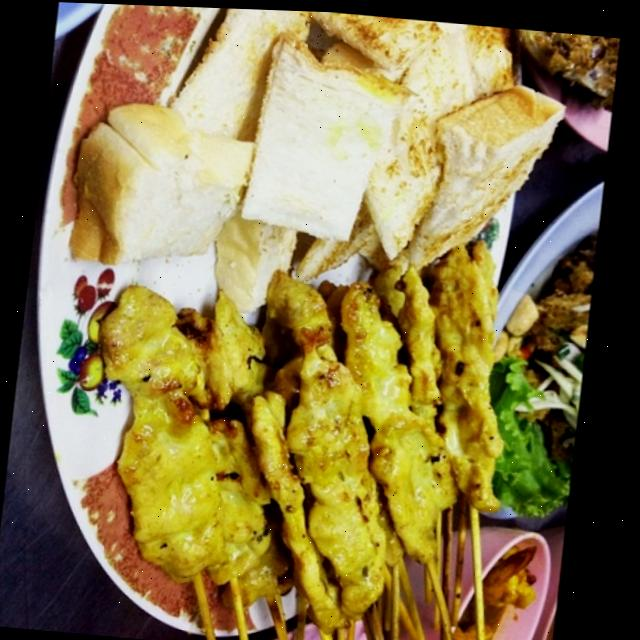牛肉菜式: (48, 211, 589, 640)
